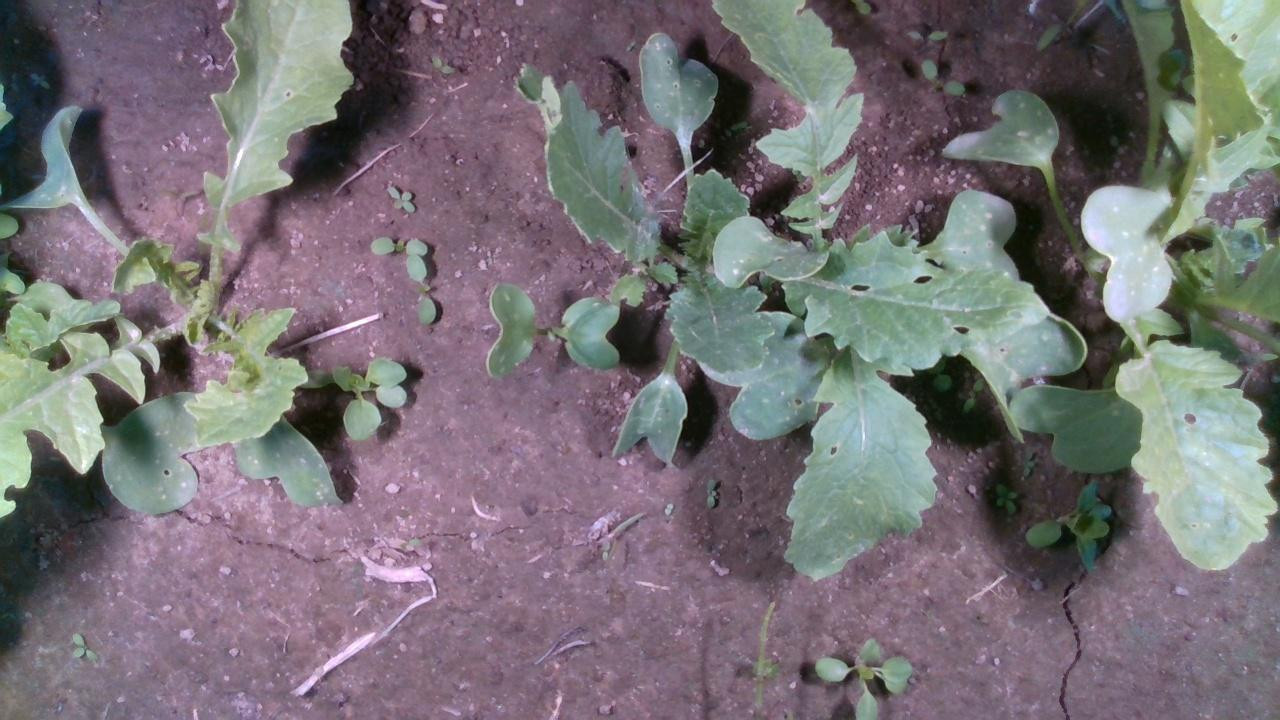weed: (377, 182, 420, 212), (704, 475, 717, 509), (660, 498, 674, 518)
